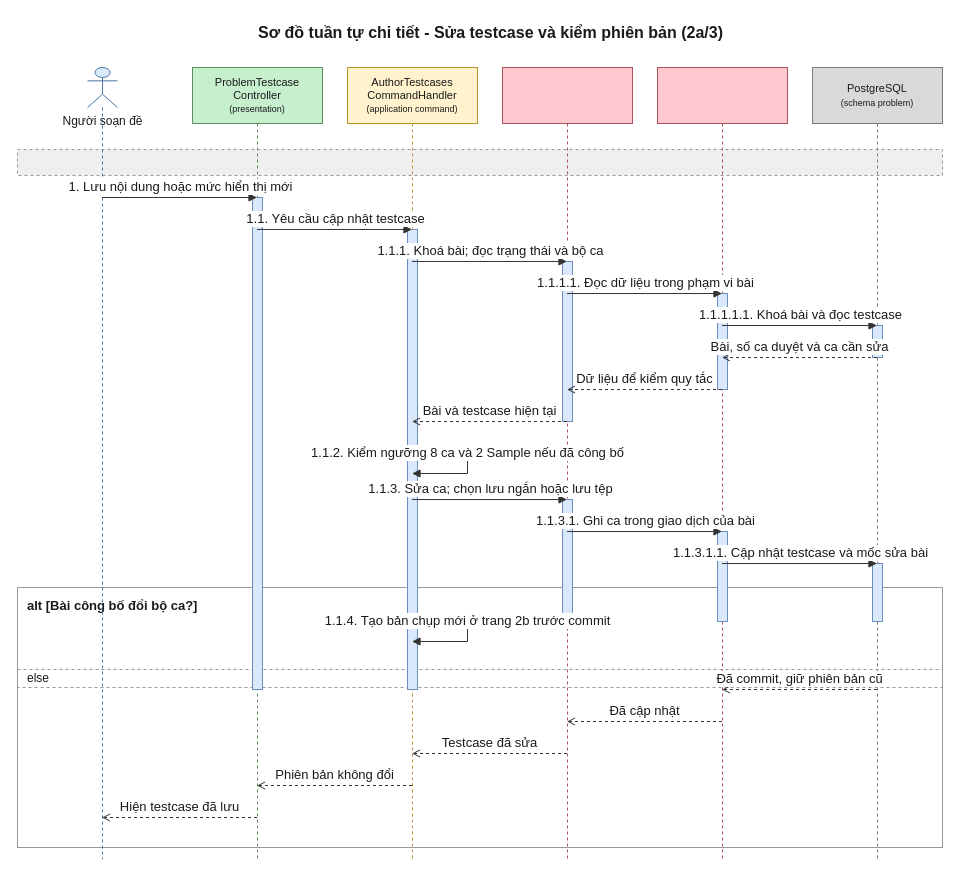
Some shapes in this 960 by 877 pixel diagram are drawn without their labels. Each missing label, with the box of its shape:
Giai đoạn 2 - Sửa testcase thuộc bài được phép soạn: (16, 148, 942, 176)
JdbcTestcase WriteRepository (infrastructure): (656, 66, 788, 860)
TestcaseWrite Repository (domain output port): (502, 66, 632, 860)
